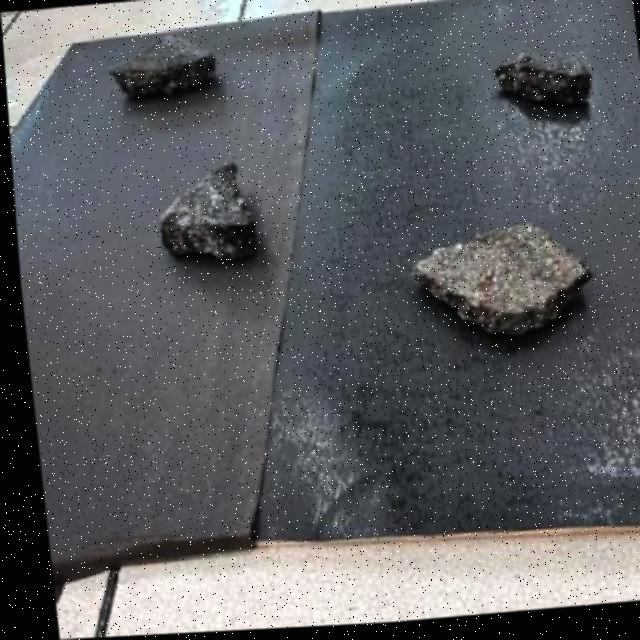Road Debris: (406, 222, 589, 343), (147, 168, 257, 241), (97, 34, 207, 78), (485, 51, 588, 88)
